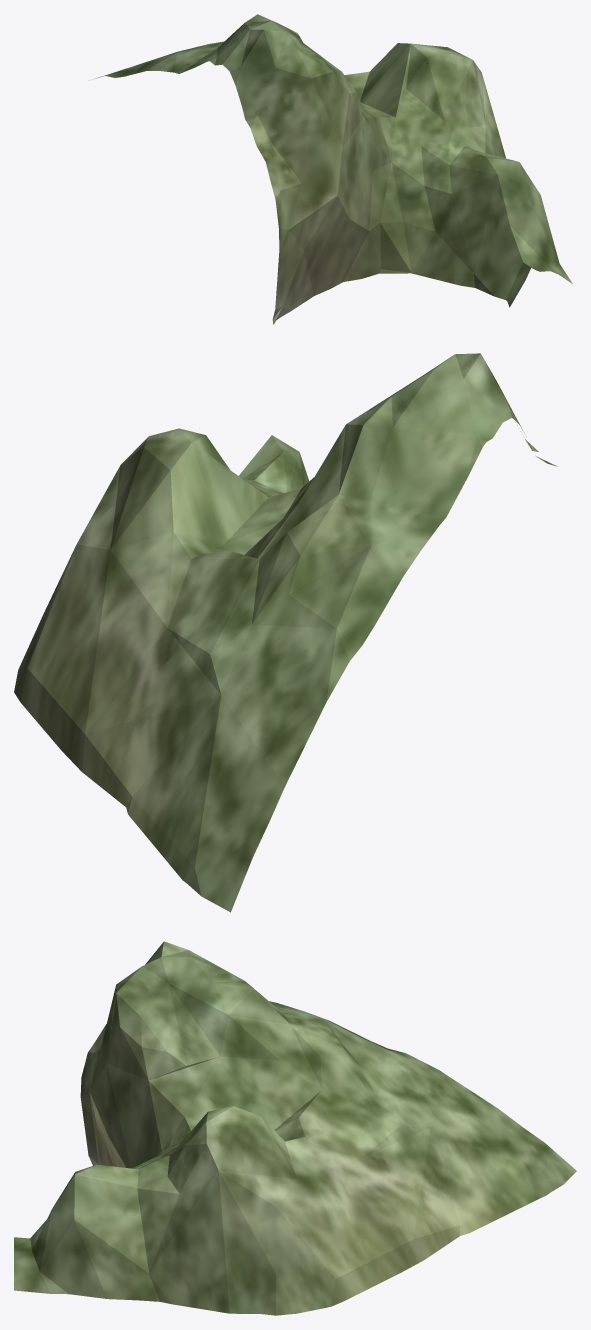
3 renders of one model, top to bottom at view 1: azimuth 30°, elevation 25°; view 2: azimuth 150°, elevation 25°; view 3: azimuth 270°, elevation 25°, orthographic. The views are drawn at different scales.
Size of the model in its own units: 1.18 by 0.9258 by 1.94.
1 material, 1 textured.
